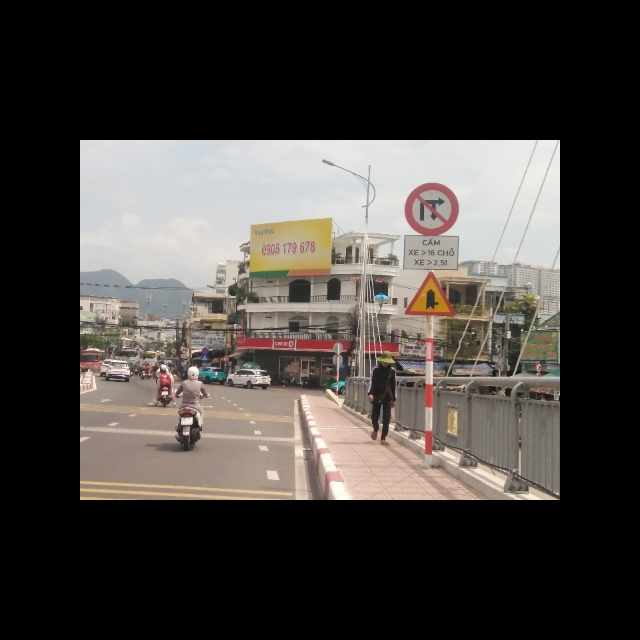Cấm quay đầu và rẽ phải: (405, 183, 458, 236)
Giao nhau với đường không ưu tiên: (405, 271, 456, 317)
